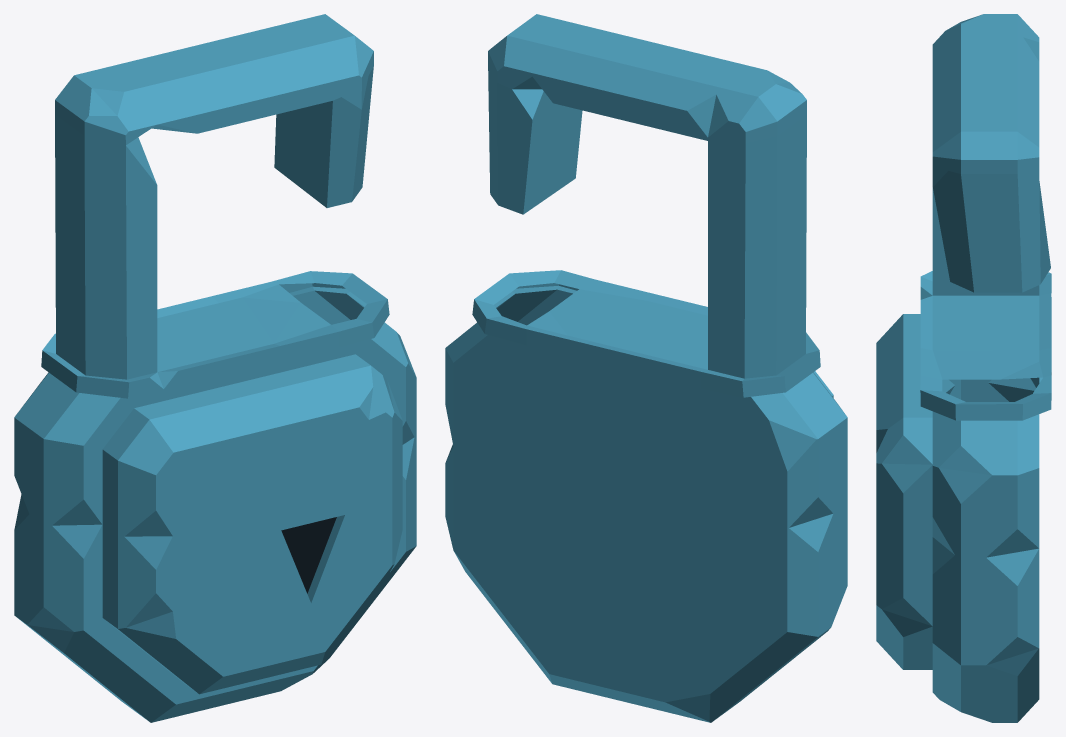
The model's file is blue_unlock.glb.
The picture shows the model from 3 angles, left to right: view 1: azimuth 30°, elevation 25°; view 2: azimuth 150°, elevation 25°; view 3: azimuth 270°, elevation 25°; orthographic projection. The views are drawn at different scales.
Parts seen in each view (by area): view 1: Circle.016; view 2: Circle.016; view 3: Circle.016.
Boxes of the visible parts, x1,y1,x2,y2 form: Circle.016: (14,14,416,722); Circle.016: (445,14,847,722); Circle.016: (876,14,1051,722).
Size of the model in its own units: 2 by 3.27 by 0.8475.
1 material, 1 textured.
